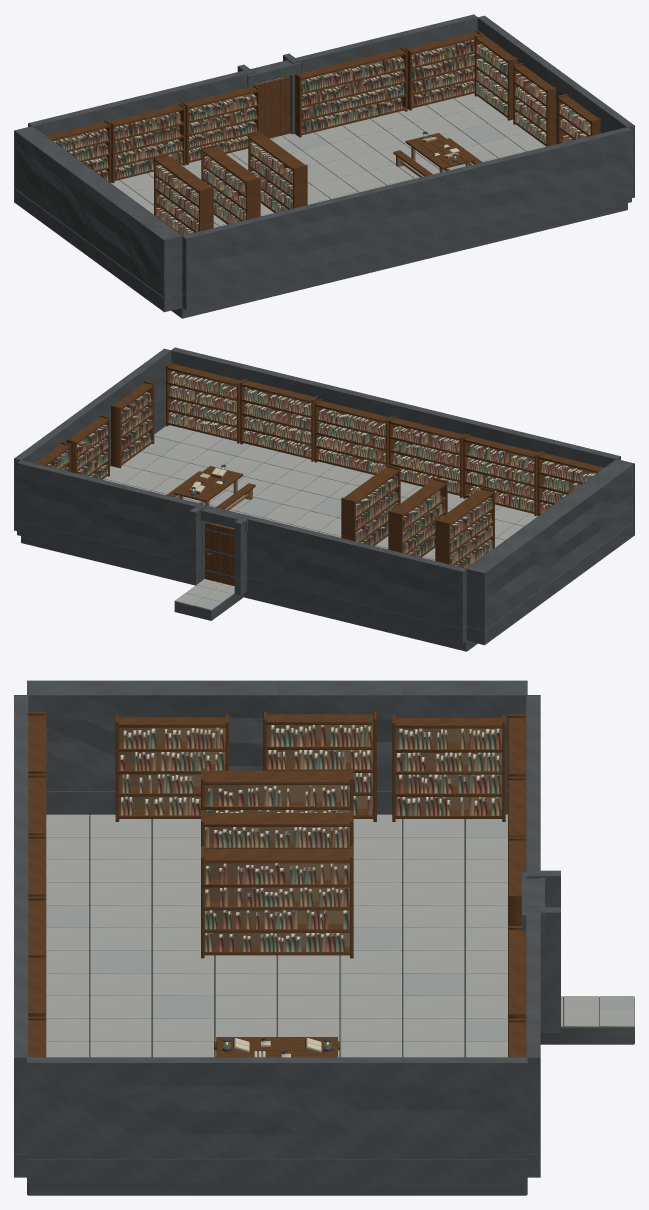
Rendered from retreat_v2_a4.glb.
3 renders of one model, top to bottom at view 1: azimuth 30°, elevation 25°; view 2: azimuth 150°, elevation 25°; view 3: azimuth 270°, elevation 25°, orthographic. The views are drawn at different scales.
Parts seen in each view (by area): view 1: North_Wall_Upper.001, CANON_Floor_Library, West_Wall_Upper, CANON_South_Bookcase_2, North_Wall_Base.001, CANON_South_Bookcase_0, CANON_South_Bookcase_1, Expanded_South_Bookcase_East, South_Wall_West_Upper, CANON_Independent_Shelf_1, East_Wall_Upper.001, South_Wall_East_Upper (+11 smaller); view 2: CANON_Floor_Library, South_Wall_West_Upper, West_Wall_Upper, South_Wall_East_Upper, North_Wall_Upper.001, Expanded_North_Bookcase_4, Expanded_North_Bookcase_5, CANON_North_Bookcase_3, CANON_North_Bookcase_1, CANON_North_Bookcase_2, East_Wall_Upper.001, CANON_Independent_Shelf_1 (+16 smaller); view 3: CANON_Floor_Library, East_Wall_Upper.001, West_Wall_Upper, CANON_Independent_Shelf_3, East_Wall_Base.001, CANON_West_Bookcase_0, Expanded_West_Bookcase_North, CANON_West_Bookcase_1, North_Wall_Upper.001, CANON_Independent_Shelf_1, CANON_Independent_Shelf_2, CANON_Floor_Entry_Threshold (+18 smaller).
Boxes of the visible parts, x1,y1,x2,y2 form: North_Wall_Upper.001: [182, 127, 631, 296]; CANON_Floor_Library: [111, 93, 627, 318]; West_Wall_Upper: [14, 126, 182, 297]; CANON_South_Bookcase_2: [294, 47, 407, 137]; North_Wall_Base.001: [182, 188, 631, 310]; CANON_South_Bookcase_0: [107, 103, 185, 182]; CANON_South_Bookcase_1: [182, 84, 259, 164]; Expanded_South_Bookcase_East: [405, 30, 481, 110]; South_Wall_West_Upper: [28, 69, 255, 135]; CANON_Independent_Shelf_1: [154, 154, 213, 235]; East_Wall_Upper.001: [477, 15, 634, 183]; South_Wall_East_Upper: [288, 14, 477, 120]; CANON_Floor_Library: [21, 425, 537, 651]; South_Wall_West_Upper: [240, 514, 466, 629]; West_Wall_Upper: [466, 459, 634, 630]; South_Wall_East_Upper: [17, 460, 206, 565]; North_Wall_Upper.001: [171, 347, 620, 467]; Expanded_North_Bookcase_4: [240, 378, 318, 461]; Expanded_North_Bookcase_5: [166, 362, 243, 443]; CANON_North_Bookcase_3: [314, 399, 392, 474]; CANON_North_Bookcase_1: [463, 434, 541, 515]; CANON_North_Bookcase_2: [389, 416, 466, 497]; East_Wall_Upper.001: [14, 348, 171, 516]; CANON_Independent_Shelf_1: [435, 487, 494, 568]; CANON_Floor_Library: [27, 814, 527, 1195]; East_Wall_Upper.001: [27, 1057, 527, 1159]; West_Wall_Upper: [27, 680, 527, 791]; CANON_Independent_Shelf_3: [201, 846, 353, 958]; East_Wall_Base.001: [27, 1159, 527, 1182]; CANON_West_Bookcase_0: [392, 715, 505, 821]; Expanded_West_Bookcase_North: [115, 714, 228, 821]; CANON_West_Bookcase_1: [263, 711, 376, 821]; North_Wall_Upper.001: [14, 695, 28, 1153]; CANON_Independent_Shelf_1: [201, 768, 353, 812]; CANON_Independent_Shelf_2: [201, 810, 353, 848]; CANON_Floor_Entry_Threshold: [540, 996, 634, 1044].
Bounding box in the file's own units: 18.99 × 3.2 × 13.02.
12 materials, 2 textured.
